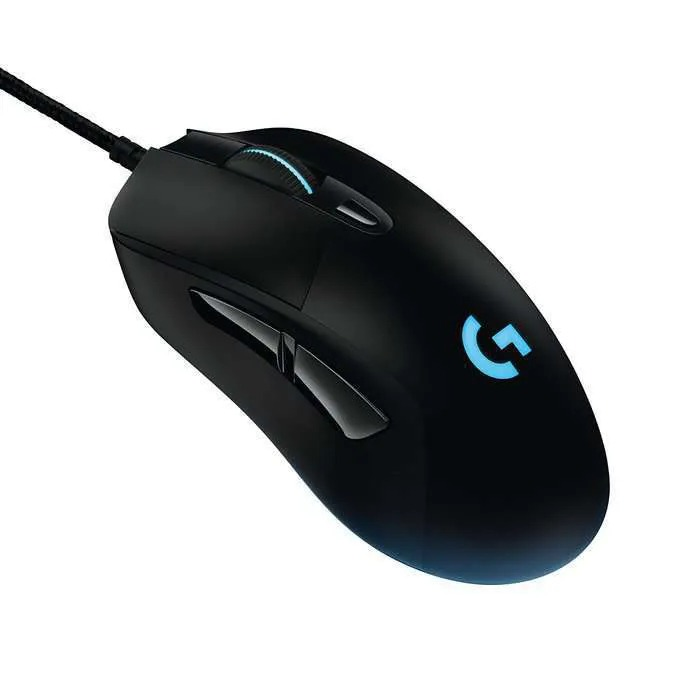mouse: (92, 101, 611, 597)
